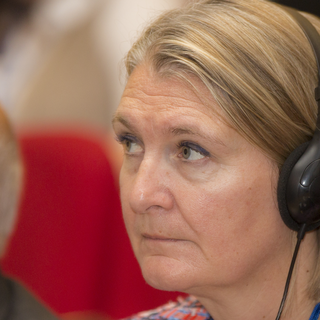eye: (171, 139, 212, 167), (114, 132, 148, 157)
